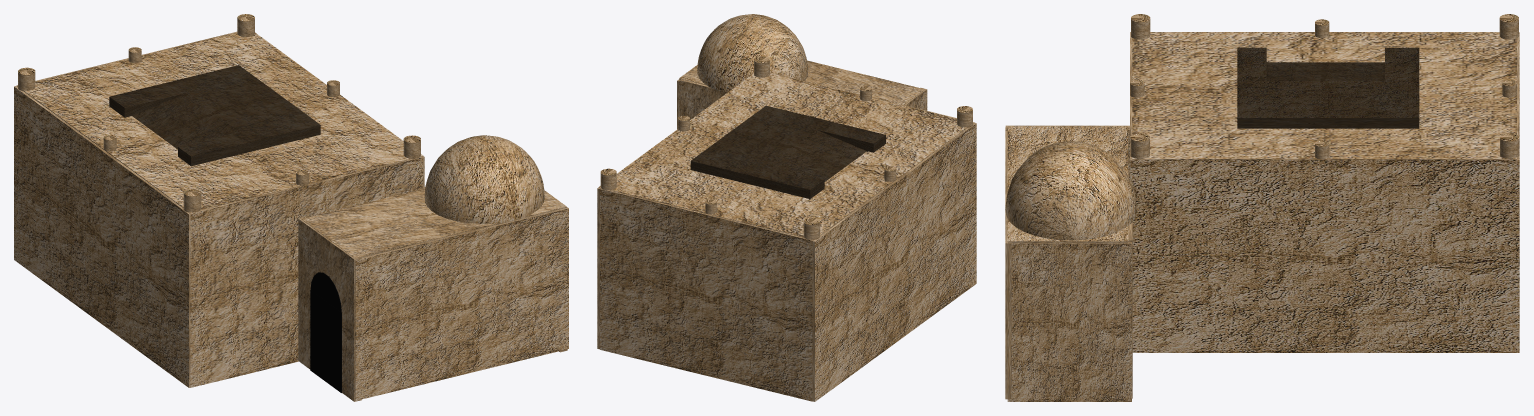
The model's file is casa1.FBX.
3 renders of one model, left to right at view 1: azimuth 30°, elevation 25°; view 2: azimuth 150°, elevation 25°; view 3: azimuth 270°, elevation 25°, orthographic. The views are drawn at different scales.
Visible parts, largest first — view 1: Box003, Box006, Box017, Box010, Box018, Sphere001, Box015, Box007, Box012; view 2: Box001, Box003, Box017, Box018, Sphere001, Box015, Box014, Box004, Cylinder002, Cylinder005; view 3: Box004, Box017, Box009, Box018, Sphere001, Box015, Box006, Cylinder004, Cylinder002, Cylinder003, Cylinder005.
Boxes of the visible parts, box(x1,y1,x2,y2) form: Box003: box(14, 85, 190, 387); Box006: box(355, 207, 568, 400); Box017: box(17, 32, 423, 212); Box010: box(188, 156, 422, 387); Box018: box(109, 65, 320, 166); Sphere001: box(424, 135, 544, 223); Box015: box(301, 188, 566, 258); Box007: box(298, 217, 361, 401); Box012: box(310, 272, 341, 392); Box001: box(600, 188, 813, 401); Box003: box(812, 123, 976, 401); Box017: box(598, 73, 973, 239); Box018: box(690, 105, 885, 198); Sphere001: box(697, 14, 807, 93); Box015: box(679, 60, 924, 104); Box014: box(679, 79, 725, 119); Box004: box(597, 187, 600, 349); Cylinder002: box(803, 218, 819, 239); Cylinder005: box(600, 168, 616, 190); Box004: box(1130, 158, 1519, 352); Box017: box(1132, 32, 1516, 159); Box009: box(1007, 242, 1131, 401); Box018: box(1237, 47, 1419, 128); Sphere001: box(1005, 141, 1136, 240); Box015: box(1007, 126, 1128, 243); Box006: box(1005, 127, 1011, 399); Cylinder004: box(1130, 133, 1149, 159); Cylinder002: box(1499, 14, 1518, 39); Cylinder003: box(1131, 14, 1150, 39); Cylinder005: box(1500, 133, 1519, 158).
Bounding box in the file's own units: 101 × 61.12 × 125.
3 materials, 2 textured.
